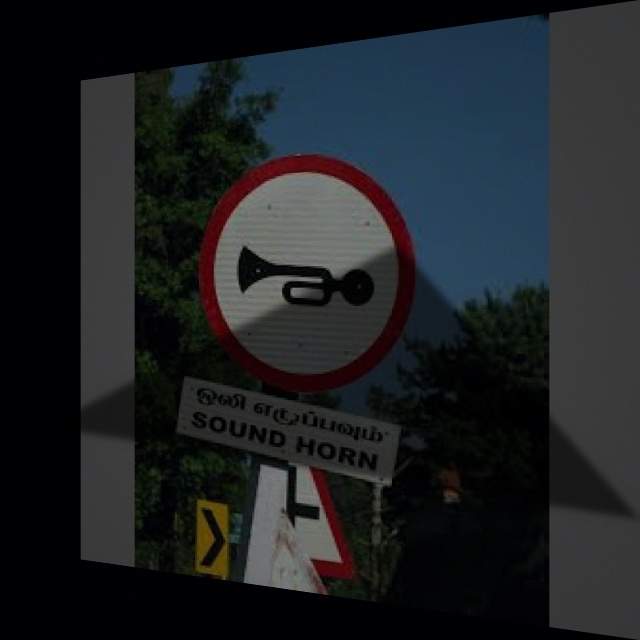Compulsory_Sound_Horn: (202, 145, 415, 388)
